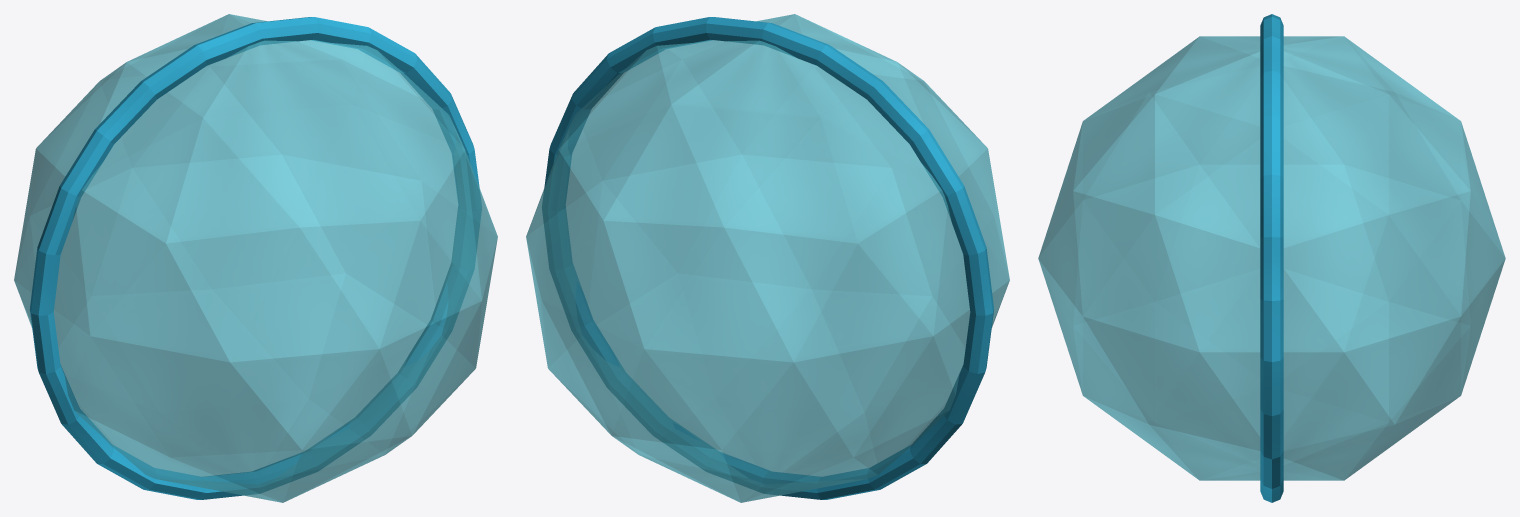
Rendered from wardens-ward-shield.glb.
3 renders of one model, left to right at view 1: azimuth 30°, elevation 25°; view 2: azimuth 150°, elevation 25°; view 3: azimuth 270°, elevation 25°, orthographic. The views are drawn at different scales.
Visible parts, largest first — view 1: ward-dome, ward-rim-ring; view 2: ward-dome, ward-rim-ring; view 3: ward-dome, ward-rim-ring.
Part boxes in pixels (x1,y1,x2,y2): ward-dome: [14, 14, 497, 502]; ward-rim-ring: [29, 17, 481, 499]; ward-dome: [526, 14, 1009, 502]; ward-rim-ring: [542, 17, 994, 499]; ward-dome: [1038, 36, 1505, 480]; ward-rim-ring: [1260, 14, 1283, 502].
Size of the model in its own units: 1.05 by 1.05 by 1.
Materials: 2 (2 with a texture image).
